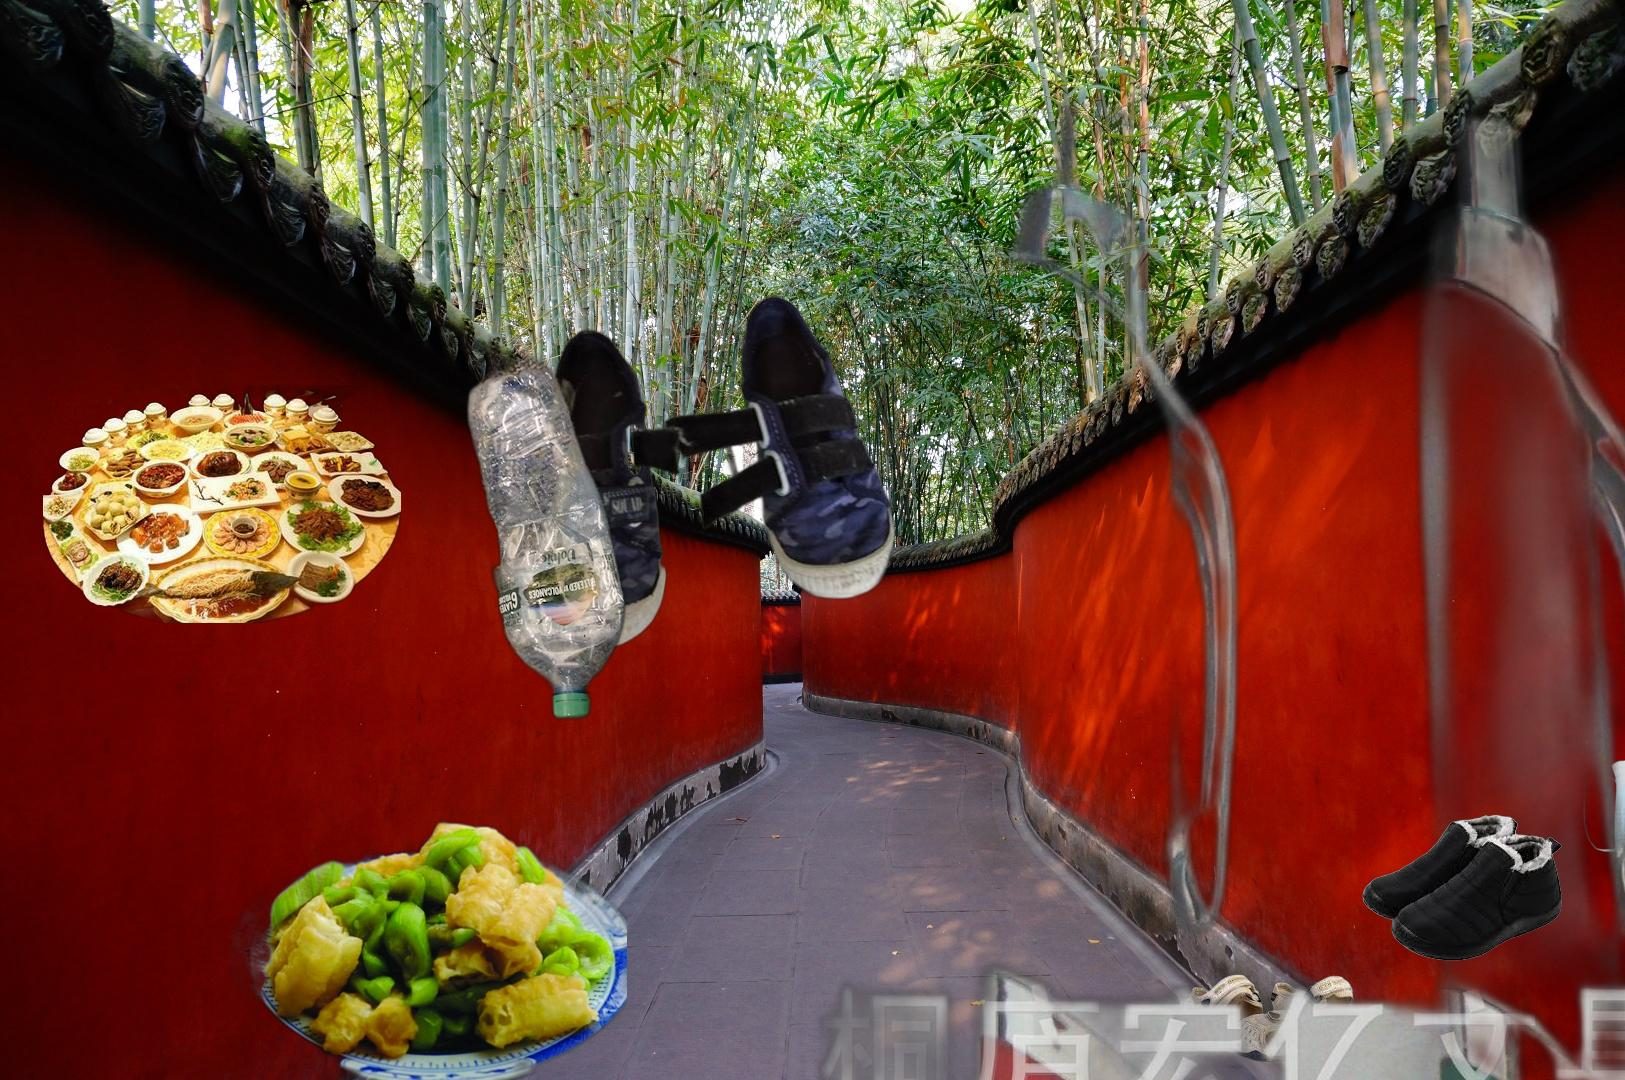biological: (229, 759, 627, 1080), (43, 385, 401, 623)
penholder: (684, 87, 1625, 1080)
plastic-bottles: (462, 335, 630, 726)
shoes: (529, 292, 898, 653), (1360, 812, 1565, 963), (1180, 972, 1435, 1064)
trash: (1579, 732, 1625, 917)
